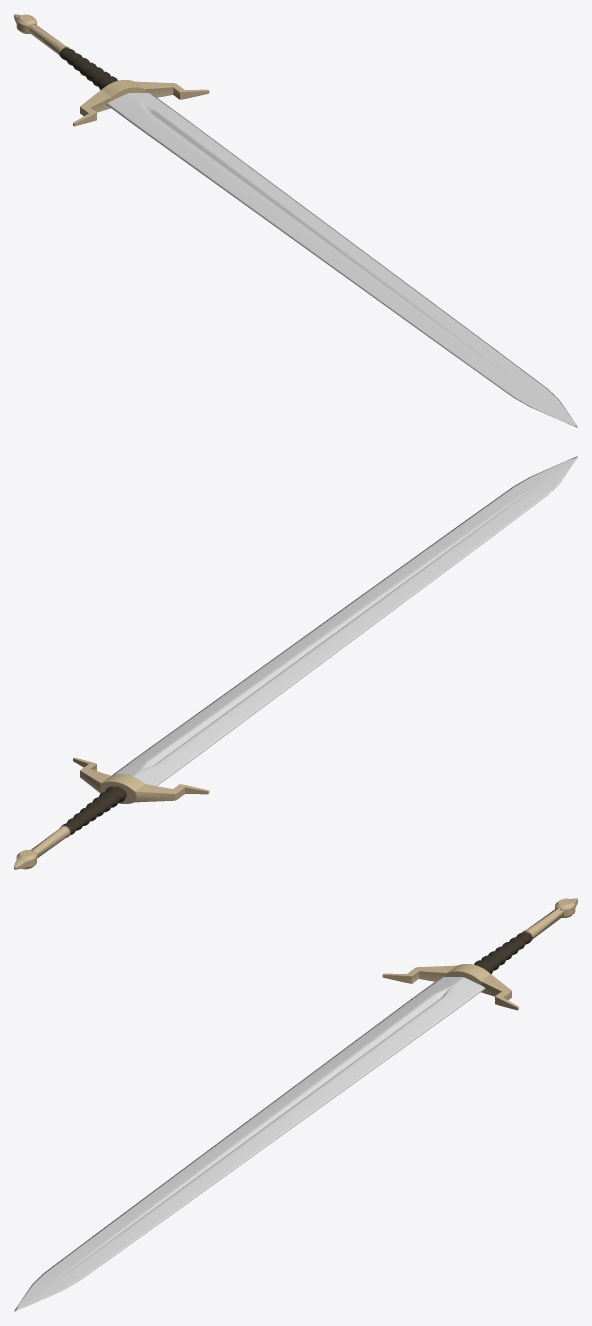
File: sword_final_shaded.fbx
The picture shows the model from 3 angles, top to bottom: view 1: azimuth 30°, elevation 25°; view 2: azimuth 150°, elevation 25°; view 3: azimuth 330°, elevation 25°; orthographic projection.
Visible parts, largest first — view 1: blade, gaurd, handle; view 2: blade, gaurd, handle; view 3: blade, gaurd, handle.
Part boxes in pixels (x1,y1,x2,y2): blade: (106, 93, 577, 427); gaurd: (73, 80, 209, 126); handle: (59, 48, 117, 89); blade: (112, 456, 577, 785); gaurd: (73, 757, 209, 803); handle: (62, 786, 126, 834); blade: (14, 977, 485, 1311); gaurd: (382, 964, 518, 1010); handle: (474, 932, 532, 973).
Bounding box in the file's own units: 770 × 115 × 5552.
